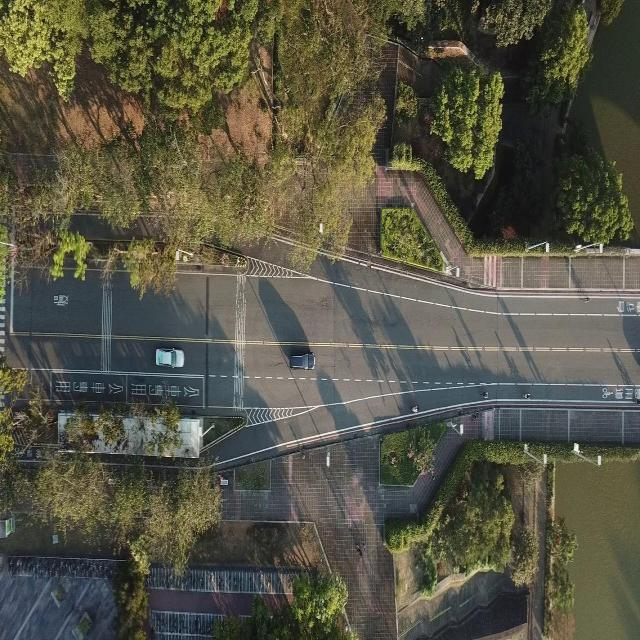car: (155, 347, 184, 368), (289, 348, 315, 370)
